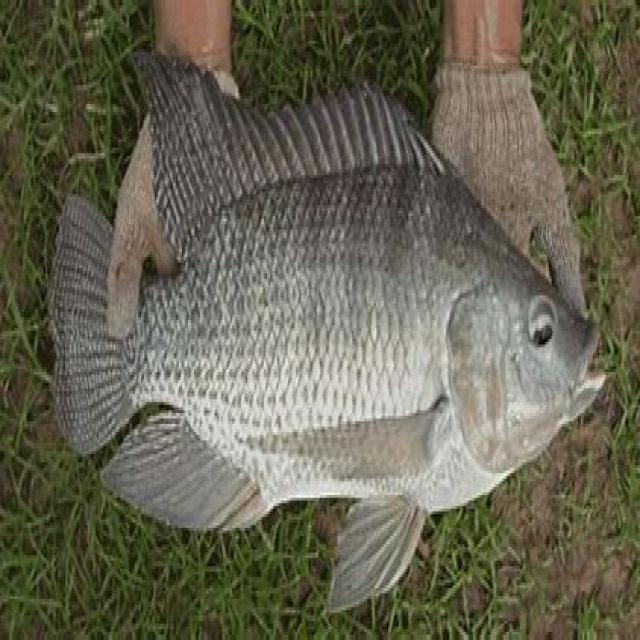Tilapia: (52, 48, 609, 604)
